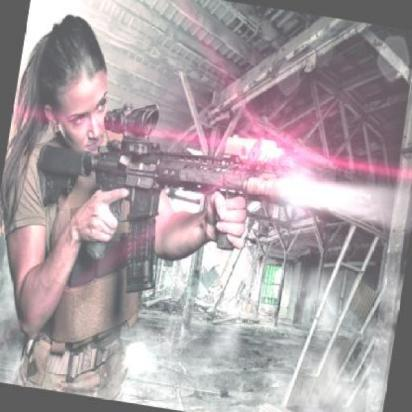Gun: (22, 88, 310, 317)
